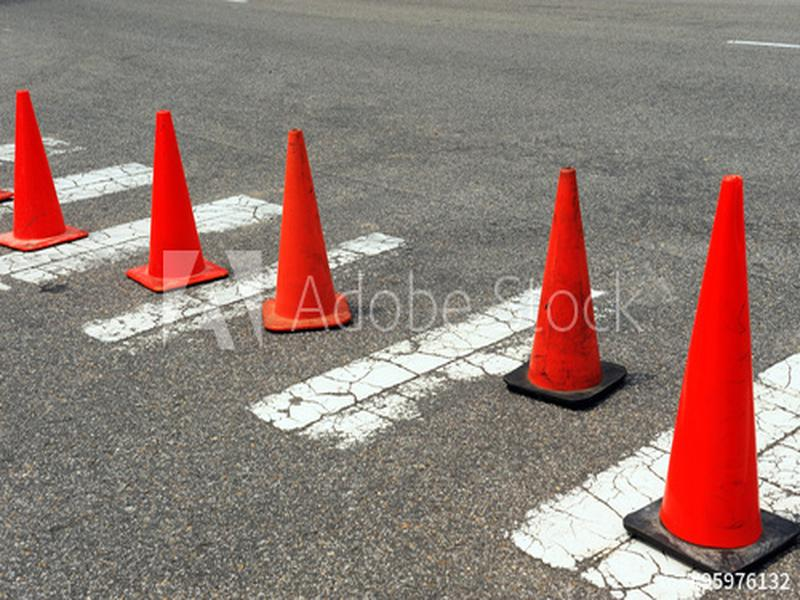Cone: (610, 174, 800, 582), (2, 87, 89, 253)
